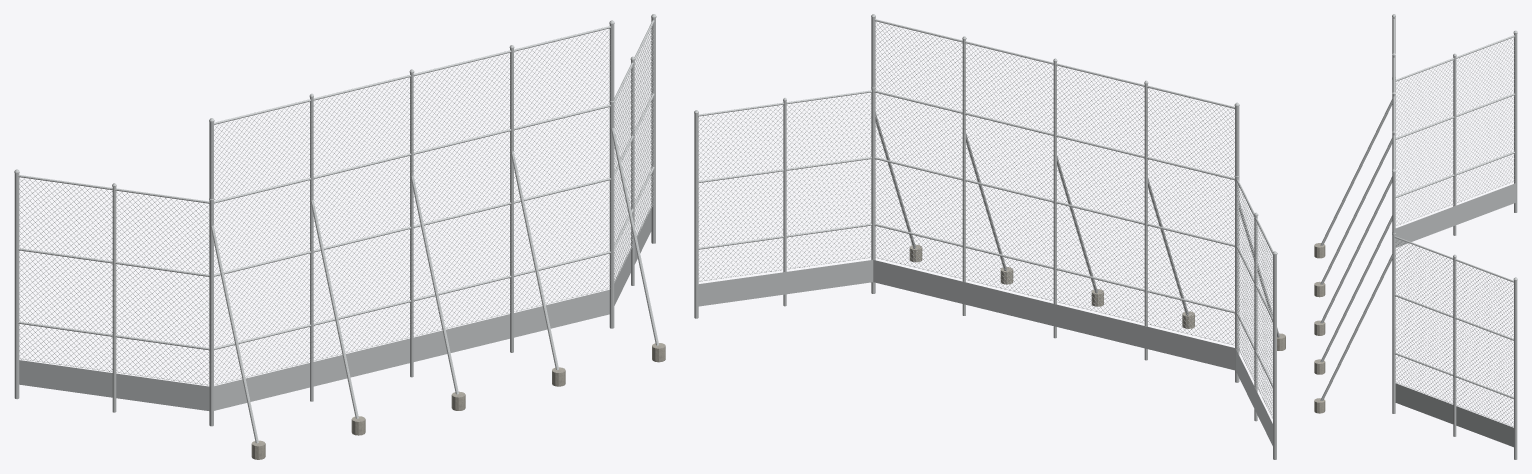
Rendered from backstop.glb.
The picture shows the model from 3 angles, left to right: view 1: azimuth 30°, elevation 25°; view 2: azimuth 150°, elevation 25°; view 3: azimuth 270°, elevation 25°; orthographic projection. The views are drawn at different scales.
Parts seen in each view (by area): view 1: backstop_galv, backstop_concrete; view 2: backstop_galv, backstop_concrete; view 3: backstop_galv, backstop_concrete.
Boxes of the visible parts, box(x1,y1,x2,y2) form: backstop_galv: box(14, 14, 658, 443); backstop_concrete: box(251, 343, 665, 459); backstop_galv: box(694, 14, 1279, 459); backstop_concrete: box(909, 244, 1285, 350); backstop_galv: box(1320, 14, 1517, 459); backstop_concrete: box(1314, 243, 1325, 413).
Size of the model in its own units: 12.82 by 5.86 by 4.44.
2 materials, 1 textured.
